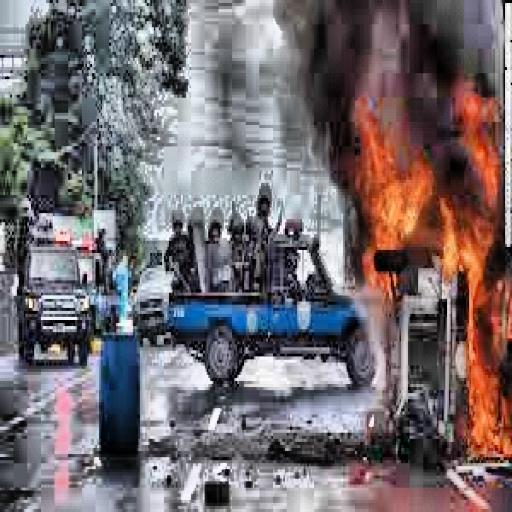fire: (340, 98, 505, 292), (437, 308, 510, 457)
